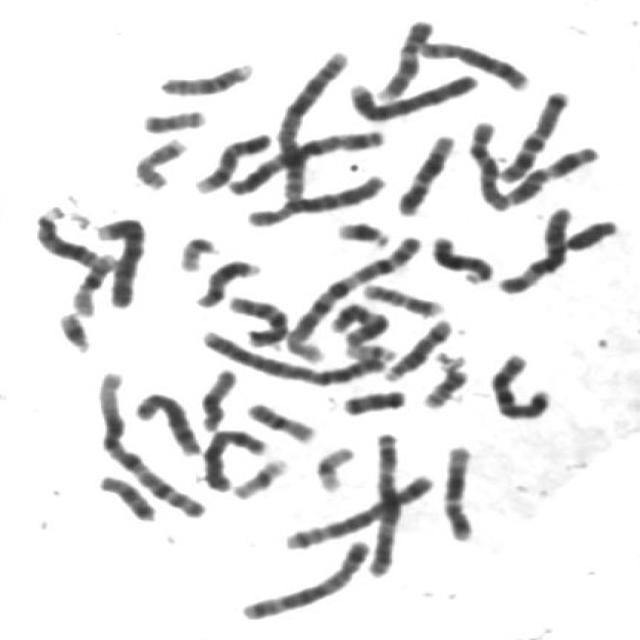A1: (276, 228, 428, 362), (86, 362, 209, 522)
A2: (267, 42, 352, 204), (190, 321, 391, 386)
A3: (218, 121, 391, 198), (360, 423, 406, 579)
B4: (338, 64, 482, 124), (89, 208, 149, 310)
B5: (275, 464, 438, 552), (232, 530, 374, 622)
C10: (459, 110, 512, 212), (218, 287, 291, 348)
C11: (497, 137, 603, 207), (321, 298, 394, 346)
C12: (387, 126, 459, 218), (434, 438, 479, 542)
C6: (238, 166, 389, 228), (489, 198, 576, 295)
C7: (492, 81, 573, 184), (481, 345, 555, 421)
C8: (410, 32, 533, 92), (123, 383, 205, 458)
C9: (368, 11, 437, 102), (187, 125, 275, 195)
D13: (27, 200, 102, 271), (423, 227, 496, 285)
D14: (376, 310, 456, 382), (187, 252, 264, 309)
D15: (151, 54, 257, 98), (192, 361, 239, 433)
E16: (62, 246, 120, 318), (238, 394, 319, 445)
E17: (352, 274, 445, 319), (125, 130, 190, 190)
E18: (89, 466, 159, 522), (334, 380, 410, 418)
F19: (224, 449, 293, 502), (306, 438, 358, 494)
F20: (413, 360, 471, 409), (134, 101, 208, 134)
G21: (326, 213, 394, 248), (49, 304, 94, 354)
G22: (169, 227, 220, 273), (339, 337, 398, 362)
X: (195, 420, 270, 493)
Y: (557, 212, 621, 252)
